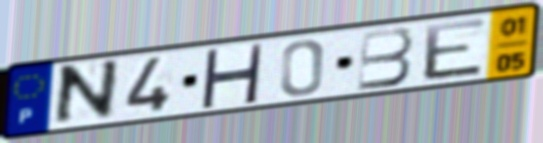0: (277, 38, 327, 98)
4: (122, 54, 174, 116)
B: (355, 25, 416, 93)
E: (421, 15, 489, 83)
H: (197, 43, 266, 109)
N: (49, 56, 122, 130)
